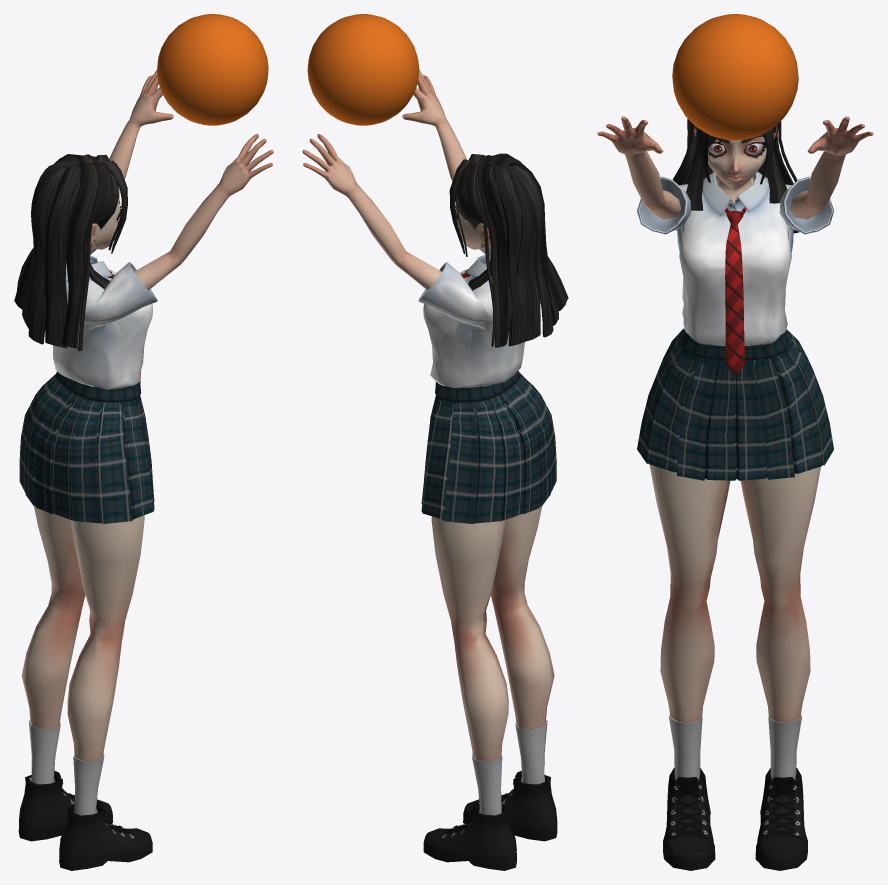
Rendered from college_girl_hazi.glb.
3 renders of one model, left to right at view 1: azimuth 30°, elevation 25°; view 2: azimuth 150°, elevation 25°; view 3: azimuth 270°, elevation 25°, orthographic. The views are drawn at different scales.
Size of the model in its own units: 0.5749 by 1.87 by 0.523.
Materials: 4 (3 with a texture image).
